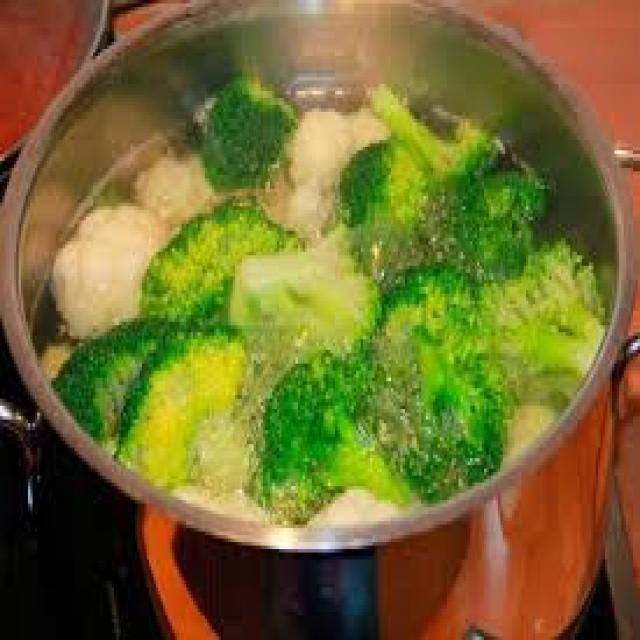broccoli: (103, 70, 520, 487), (462, 234, 614, 394)
cayliflower: (42, 187, 166, 334), (276, 96, 388, 230), (113, 148, 217, 224)
